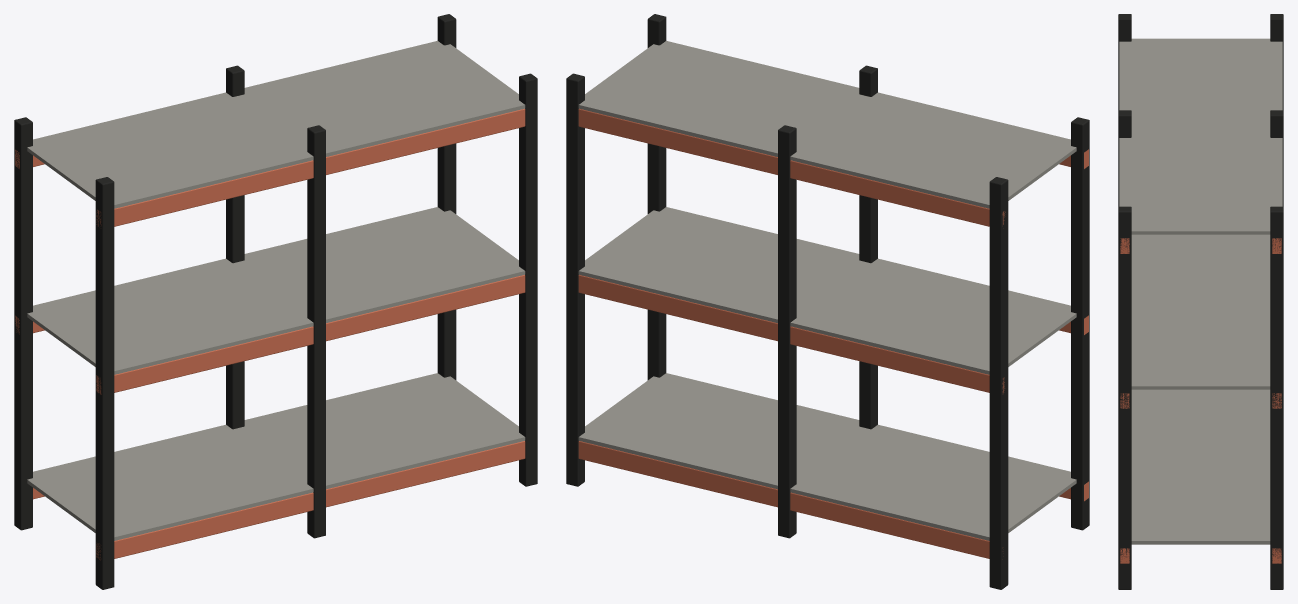
File: material_rack.glb
3 renders of one model, left to right at view 1: azimuth 30°, elevation 25°; view 2: azimuth 150°, elevation 25°; view 3: azimuth 270°, elevation 25°, orthographic. The views are drawn at different scales.
Visible parts, largest first — view 1: material_rack_parts; view 2: material_rack_parts; view 3: material_rack_parts.
Boxes of the visible parts, box(x1,y1,x2,y2) form: material_rack_parts: box(14, 14, 537, 589); material_rack_parts: box(566, 14, 1089, 589); material_rack_parts: box(1118, 14, 1283, 589).
Size of the model in its own units: 2.47 by 2.2 by 0.8701.
